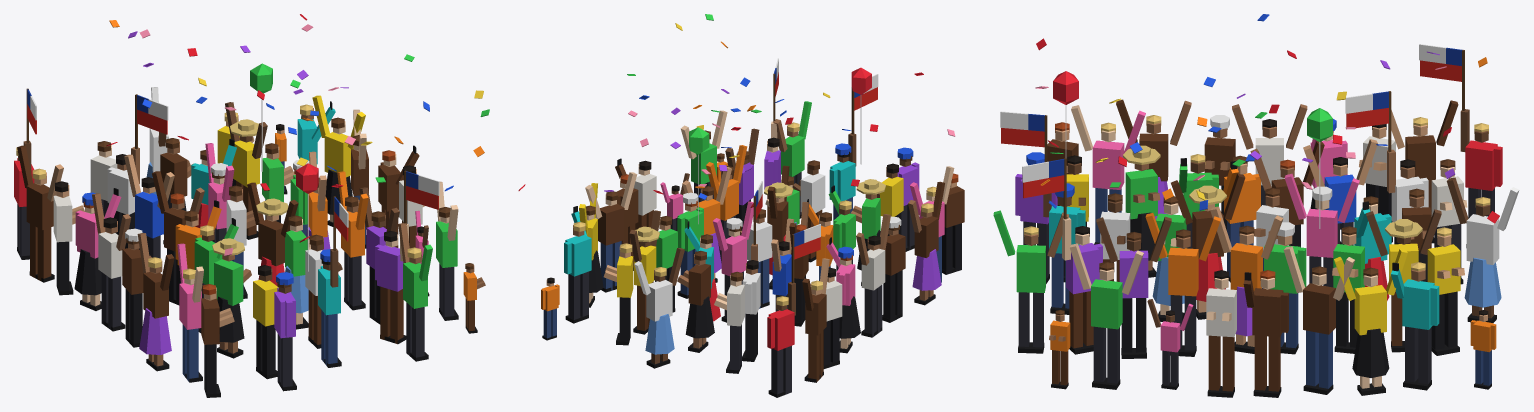
Rendered from multitud_fiesta_5.obj.
3 views of the same model, side by side, from view 1: azimuth 30°, elevation 25°; view 2: azimuth 150°, elevation 25°; view 3: azimuth 270°, elevation 25° (orthographic). The views are drawn at different scales.
Parts seen in each view (by area): view 1: multitud_fiesta_5; view 2: multitud_fiesta_5; view 3: multitud_fiesta_5.
Boxes of the visible parts, bbox=[...] form: multitud_fiesta_5: bbox=[14, 14, 489, 397]; multitud_fiesta_5: bbox=[518, 14, 964, 397]; multitud_fiesta_5: bbox=[993, 14, 1519, 397].
Size of the model in its own units: 5.22 by 3.44 by 6.67.
